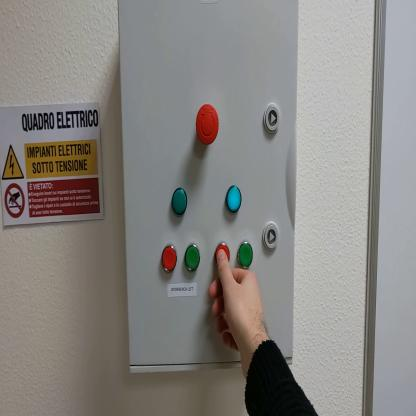hand: (210, 248, 266, 353)
left green button: (185, 244, 201, 274)
left red button: (164, 249, 177, 274)
right green button: (240, 243, 255, 269)
right red button: (216, 247, 232, 266)
working area: (118, 1, 301, 375)
